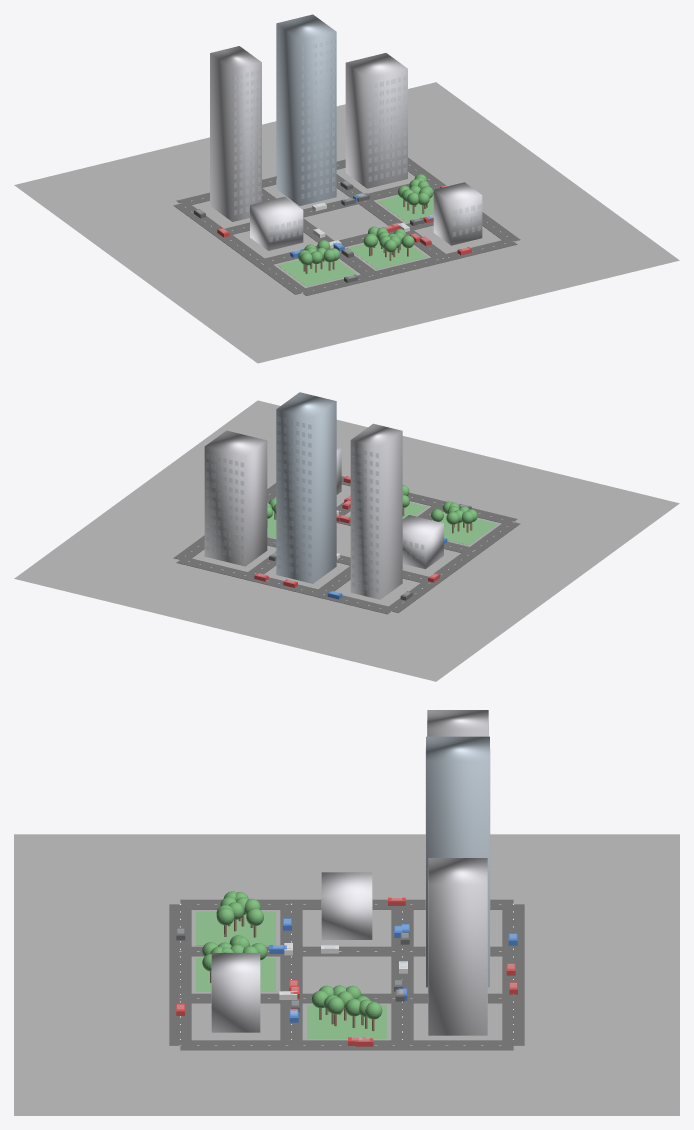
The model's file is test_city_final.glb.
3 views of the same model, one above another, from view 1: azimuth 30°, elevation 25°; view 2: azimuth 150°, elevation 25°; view 3: azimuth 270°, elevation 25° (orthographic). The views are drawn at different scales.
Visible parts, largest first — view 1: Plane, Cube.348, Cube.186, Cube.585, Cube.553, Cube.161, Cube, Cube.020, Cube.160, Cube.347, Cube.100, Cube.140 (+4 smaller); view 2: Plane, Cube.348, Cube.186, Cube.585, Cube.161, Cube.120, Cube.020, Cube.160, Cube, Cube.060, Cube.140; view 3: Plane, Cube.585, Cube.348, Cube.553, Cube.161, Cube.140, Cube, Cube.120, Cube.040, Cube.080, Cube.160, Cube.584 (+5 smaller).
Part boxes in pixels (left/top/right/bottom): Plane: left=14, top=82, right=679, bottom=363; Cube.348: left=276, top=14, right=336, bottom=205; Cube.186: left=210, top=46, right=261, bottom=221; Cube.585: left=345, top=53, right=407, bottom=188; Cube.553: left=433, top=182, right=482, bottom=245; Cube.161: left=250, top=196, right=303, bottom=250; Cube: left=299, top=240, right=517, bottom=295; Cube.020: left=173, top=204, right=304, bottom=294; Cube.160: left=277, top=260, right=356, bottom=286; Cube.347: left=348, top=240, right=426, bottom=269; Cube.100: left=336, top=174, right=445, bottom=257; Cube.140: left=408, top=157, right=520, bottom=242; Plane: left=14, top=400, right=679, bottom=681; Cube.348: left=276, top=392, right=336, bottom=583; Cube.186: left=350, top=423, right=402, bottom=599; Cube.585: left=204, top=430, right=267, bottom=566; Cube.161: left=402, top=515, right=443, bottom=569; Cube.120: left=176, top=558, right=391, bottom=614; Cube.020: left=385, top=522, right=520, bottom=612; Cube.160: left=439, top=513, right=497, bottom=545; Cube: left=341, top=476, right=517, bottom=524; Cube.060: left=315, top=506, right=443, bottom=594; Cube.140: left=173, top=483, right=276, bottom=561; Plane: left=14, top=834, right=679, bottom=1115; Cube.585: left=428, top=858, right=487, bottom=1035; Cube.348: left=426, top=736, right=489, bottom=987; Cube.553: left=211, top=953, right=260, bottom=1032; Cube.161: left=321, top=872, right=372, bottom=939; Cube.140: left=180, top=1040, right=513, bottom=1050; Cube: left=169, top=904, right=191, bottom=1045; Cube.120: left=502, top=904, right=524, bottom=1045; Cube.040: left=280, top=909, right=302, bottom=1045; Cube.080: left=391, top=909, right=413, bottom=1045; Cube.160: left=196, top=911, right=275, bottom=945; Cube.584: left=307, top=1005, right=386, bottom=1038.
Size of the model in its own units: 150 by 56.22 by 150.
